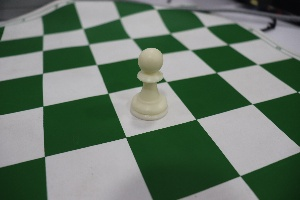white_pawn: (121, 41, 174, 126)
